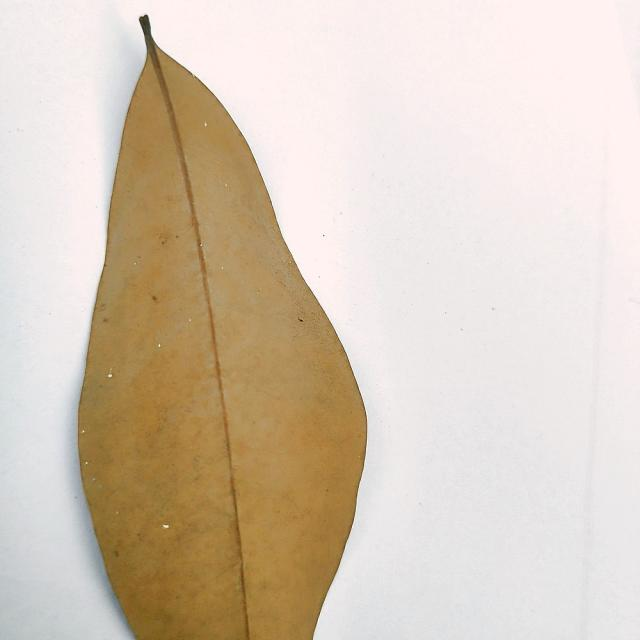Dry_Leaf-Lychee: (76, 16, 369, 639)
